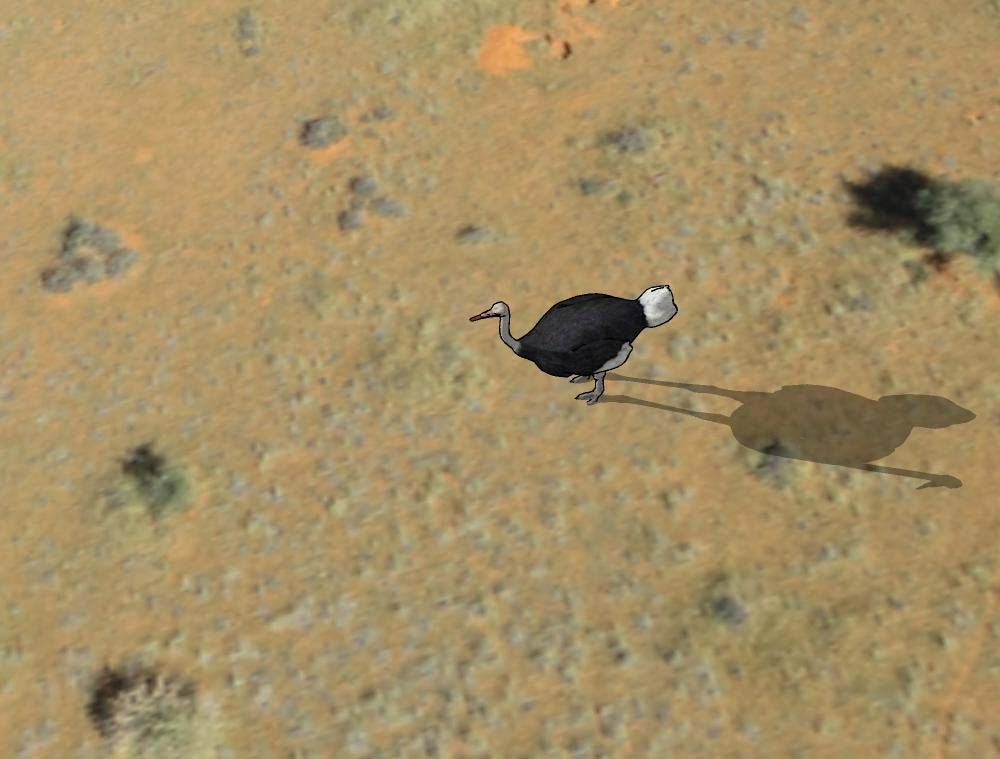ostrich: (461, 270, 685, 408)
